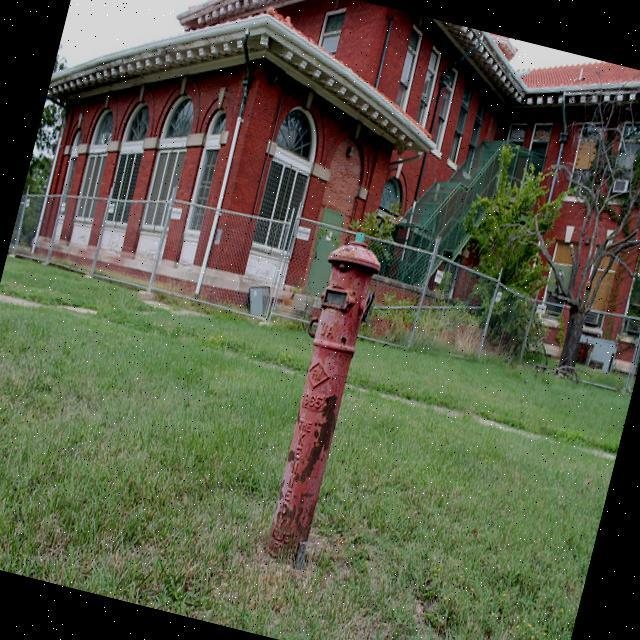fire_hydrant: (245, 216, 392, 570)
